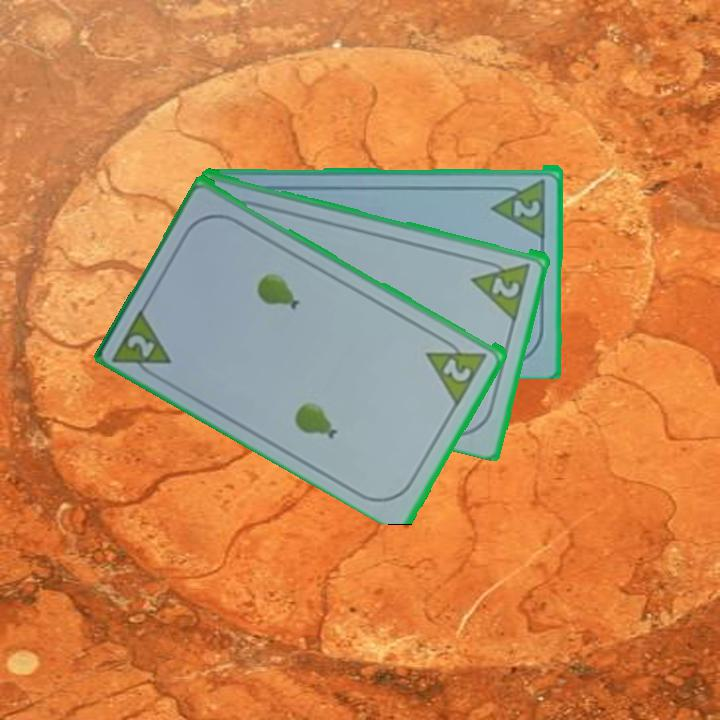2p: (469, 254, 534, 321), (490, 175, 549, 238), (439, 354, 475, 385), (124, 330, 159, 361)
